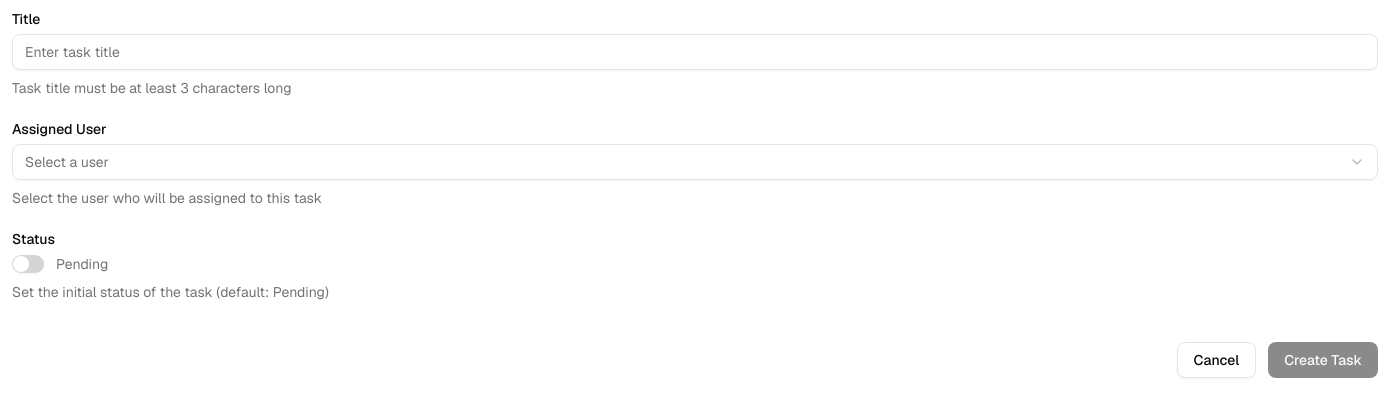
Test: Task Form › Status Toggle › should toggle status when clicked
This screenshot has width=1390, height=395.
Click the text "Pending": [82, 264] box [56,254,108,274]
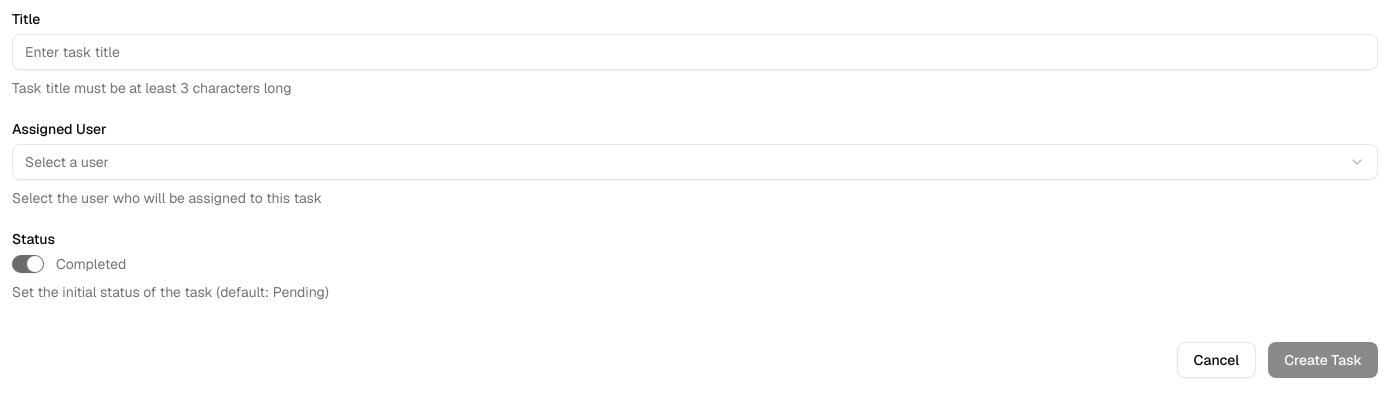
Result: the text "Completed" is shown at [56,254,126,274]
